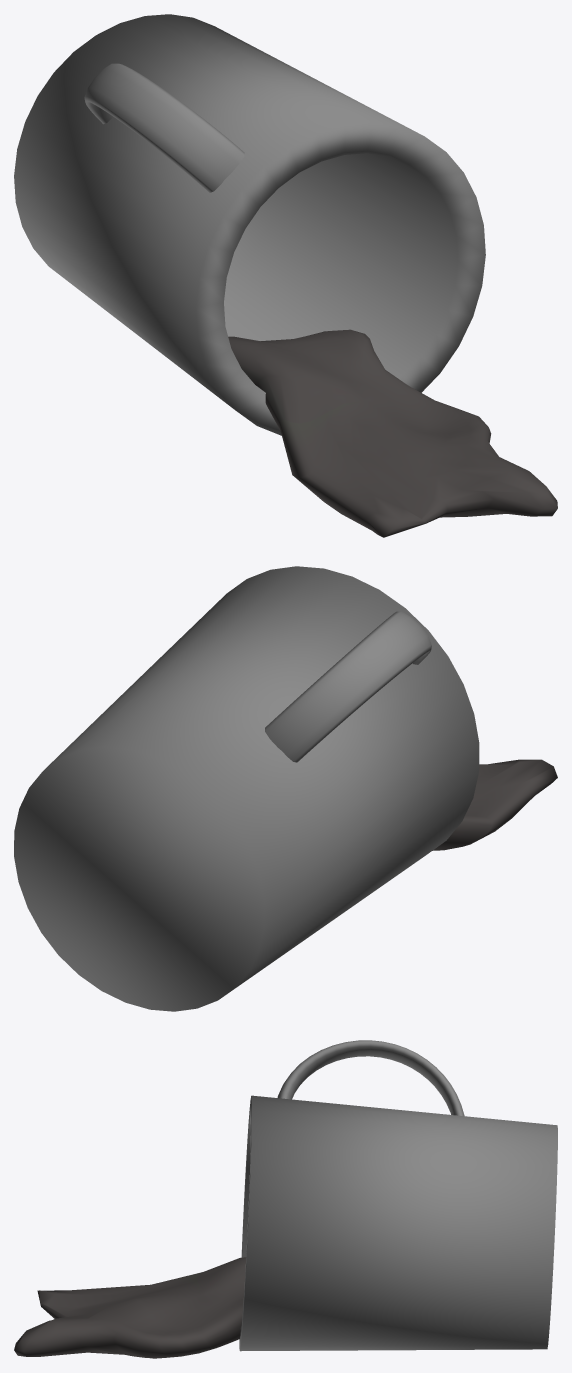
File: Assets.fbx_QuestGlas.fbx_Cup.fbx
3 renders of one model, top to bottom at view 1: azimuth 30°, elevation 25°; view 2: azimuth 150°, elevation 25°; view 3: azimuth 270°, elevation 25°, orthographic. The views are drawn at different scales.
Parts seen in each view (by area): view 1: Tasse.006, Sphere.002; view 2: Tasse.006, Sphere.002; view 3: Tasse.006, Sphere.002.
Part boxes in pixels (box(x1,y1,x2,y2)): Tasse.006: box(14, 14, 485, 435); Sphere.002: box(228, 329, 557, 537); Tasse.006: box(14, 566, 479, 1011); Sphere.002: box(432, 759, 557, 850); Tasse.006: box(239, 1040, 557, 1351); Sphere.002: box(14, 1257, 246, 1358).
Bounding box in the file's own units: 10.62 × 11.39 × 21.93.
